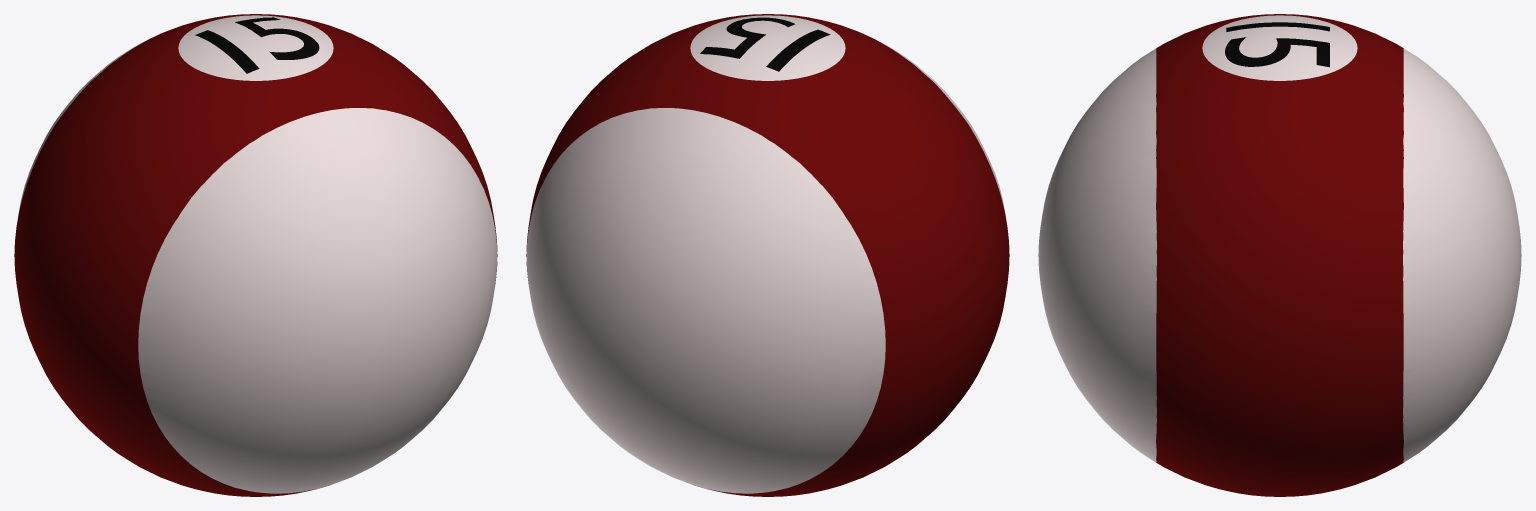
File: fifteenBall.glb
3 views of the same model, side by side, from view 1: azimuth 30°, elevation 25°; view 2: azimuth 150°, elevation 25°; view 3: azimuth 270°, elevation 25° (orthographic).
Visible parts, largest first — view 1: Sphere; view 2: Sphere; view 3: Sphere.
Part boxes in pixels (left/top/right/bottom): Sphere: left=14, top=14, right=497, bottom=496; Sphere: left=526, top=14, right=1009, bottom=496; Sphere: left=1038, top=14, right=1521, bottom=496.
Bounding box in the file's own units: 0.127 × 0.127 × 0.127.
